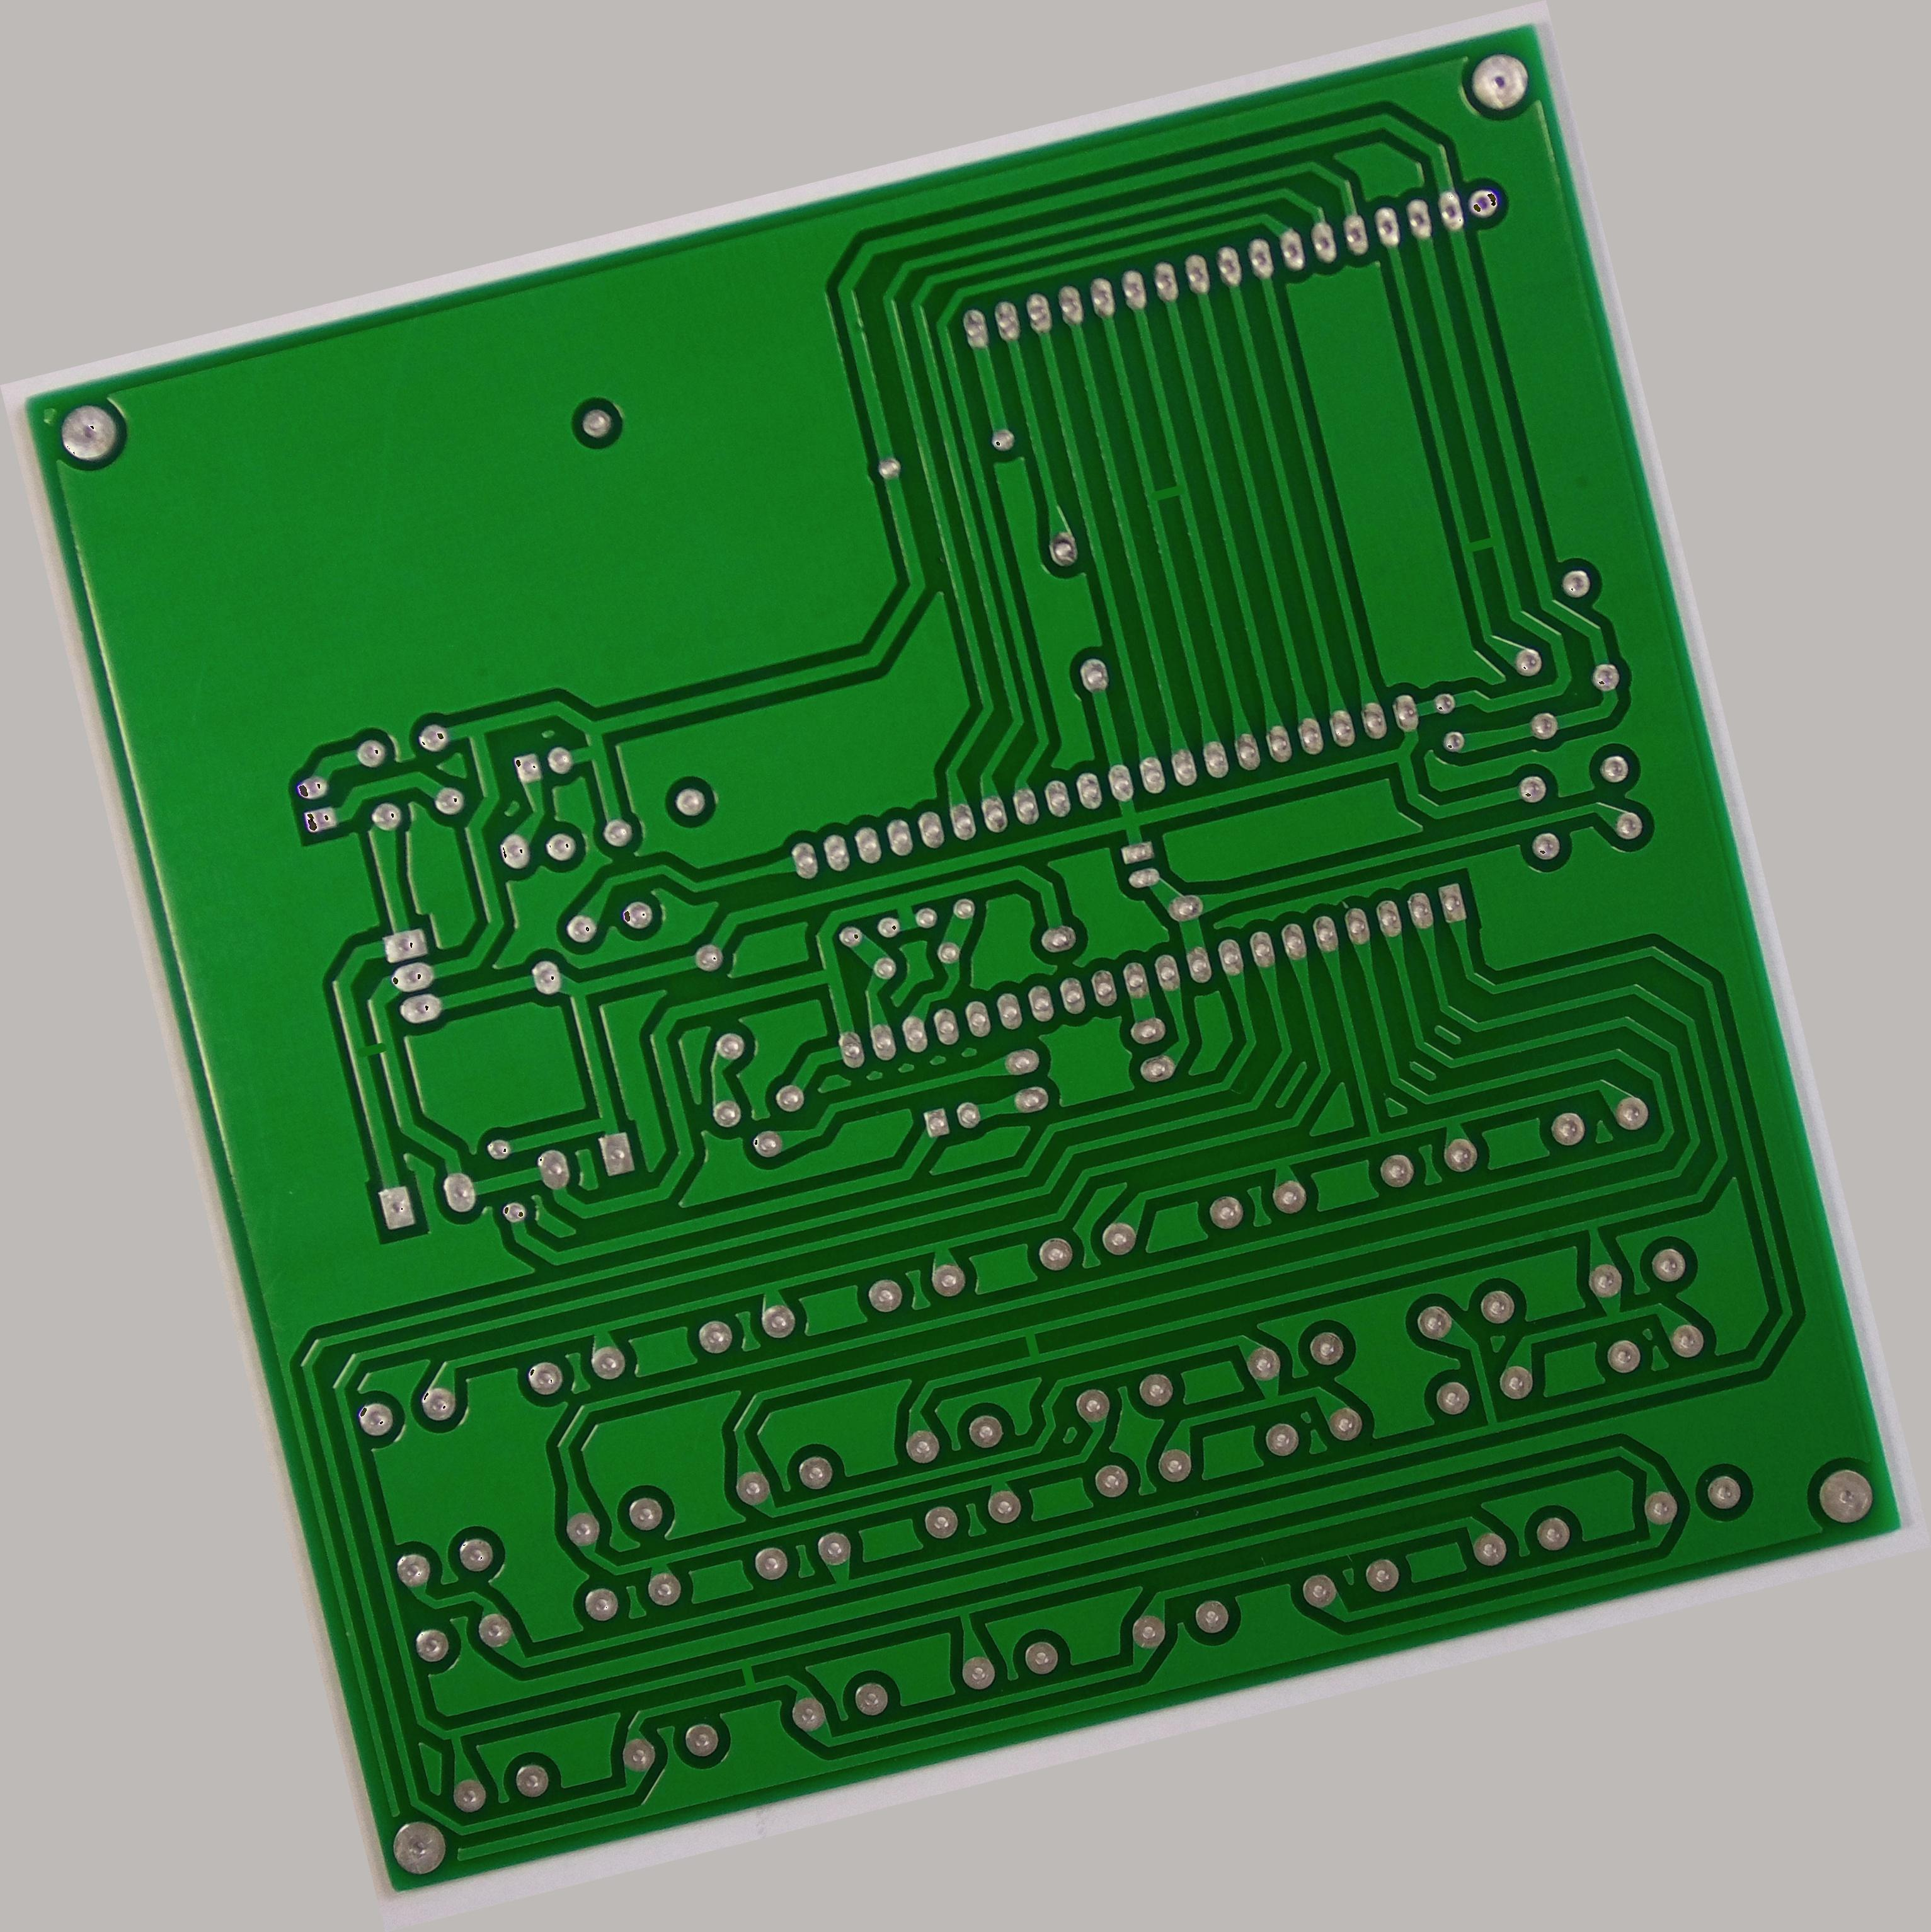short: (334, 1023, 408, 1085), (1448, 518, 1514, 571), (716, 1647, 776, 1704), (1135, 469, 1195, 517), (1010, 1315, 1057, 1373)
